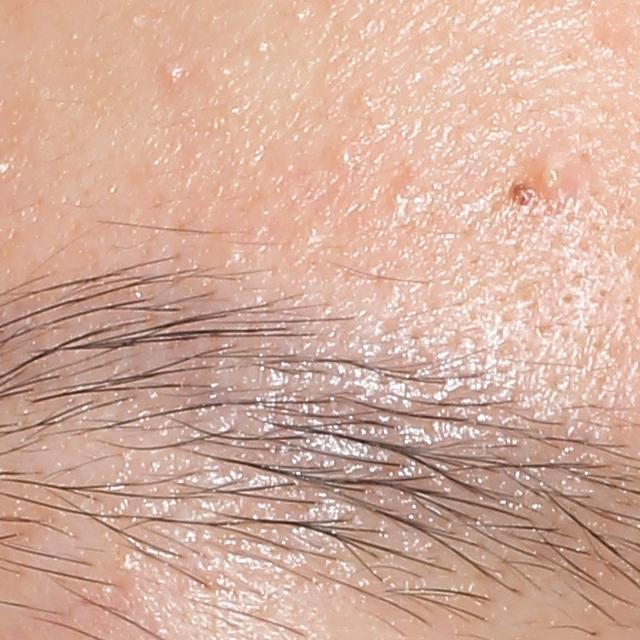comedo: (326, 137, 359, 173), (164, 58, 185, 85)
nevus: (508, 179, 536, 212)
pustule: (532, 144, 582, 206)
